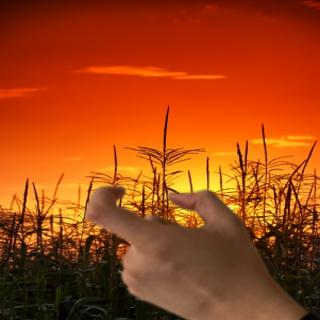HATE: (80, 178, 280, 320)
